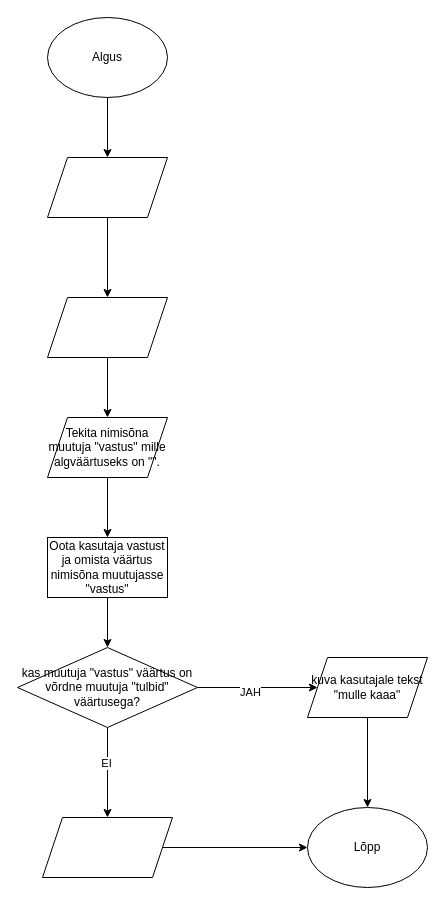
This 445x905 diagram has some shape labels left out. The shapes that lost their labels are listed below. From the top down, each one's box as (x1, y1, x2, y2) in pixels, then its label:
(46, 156, 168, 218): Tekita nimisõna muutuja "tulbid" mille algväärtuseks on "jah".
(46, 296, 168, 358): kuva kasutajale tekst "Kas sulle meeldivad tulbid?"
(42, 816, 172, 878): Kuva kasutajale tekst "Ma ei saanud aru"
